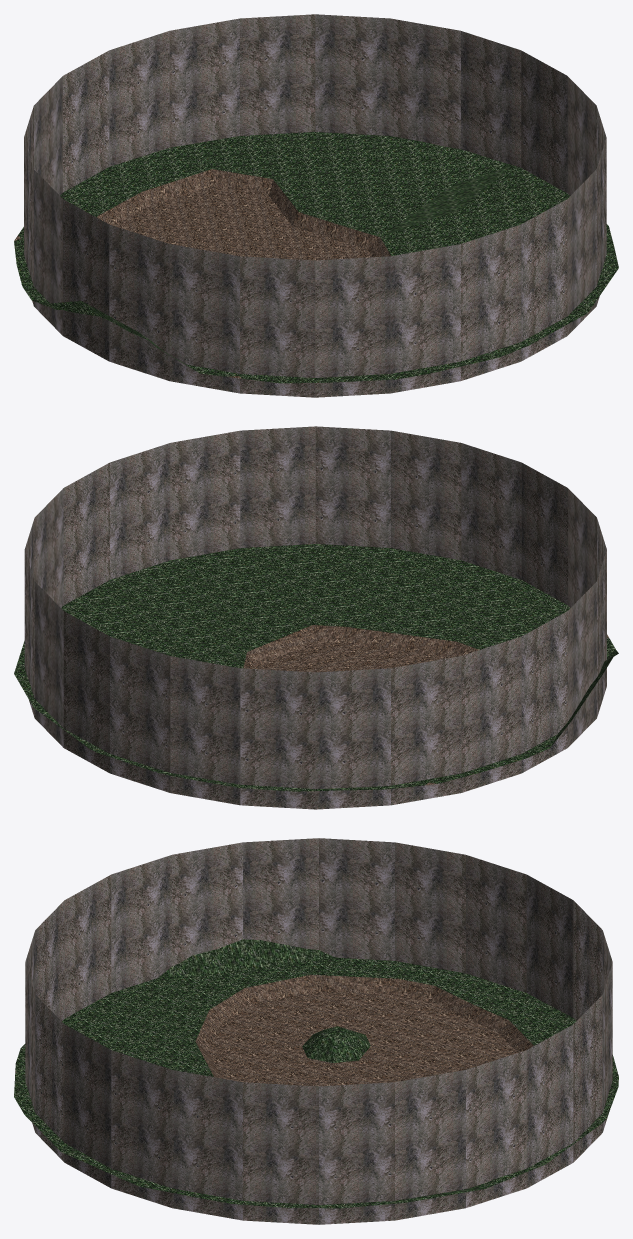
The model's file is meda_terrain.gltf.
The picture shows the model from 3 angles, top to bottom: view 1: azimuth 30°, elevation 25°; view 2: azimuth 150°, elevation 25°; view 3: azimuth 270°, elevation 25°; orthographic projection.
Visible parts, largest first — view 1: Cylinder, MyLowPolyTerrain2; view 2: Cylinder, MyLowPolyTerrain2; view 3: Cylinder, MyLowPolyTerrain2.
Part boxes in pixels (x1=…): Cylinder: x1=24, y1=14, x2=606, y2=397; MyLowPolyTerrain2: x1=14, y1=132, x2=618, y2=383; Cylinder: x1=24, y1=426, x2=606, y2=809; MyLowPolyTerrain2: x1=14, y1=544, x2=618, y2=791; Cylinder: x1=25, y1=838, x2=612, y2=1224; MyLowPolyTerrain2: x1=14, y1=939, x2=618, y2=1208.
Bounding box in the file's own units: 227 × 57.22 × 227.
Materials: 3 (3 with a texture image).
